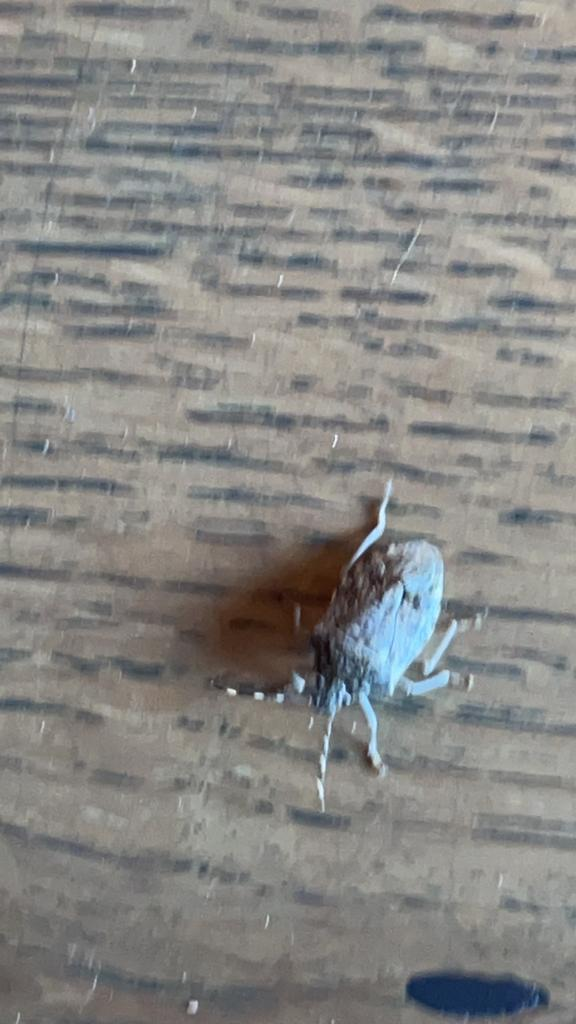stink_bugs: (158, 454, 553, 830)
